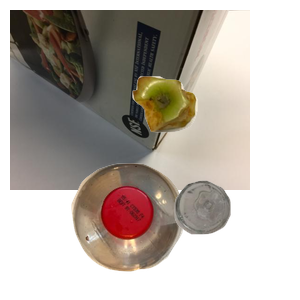cardboard: (10, 10, 250, 190)
glass: (172, 178, 300, 300)
plastic: (69, 161, 245, 300)
trash: (130, 74, 300, 199)
